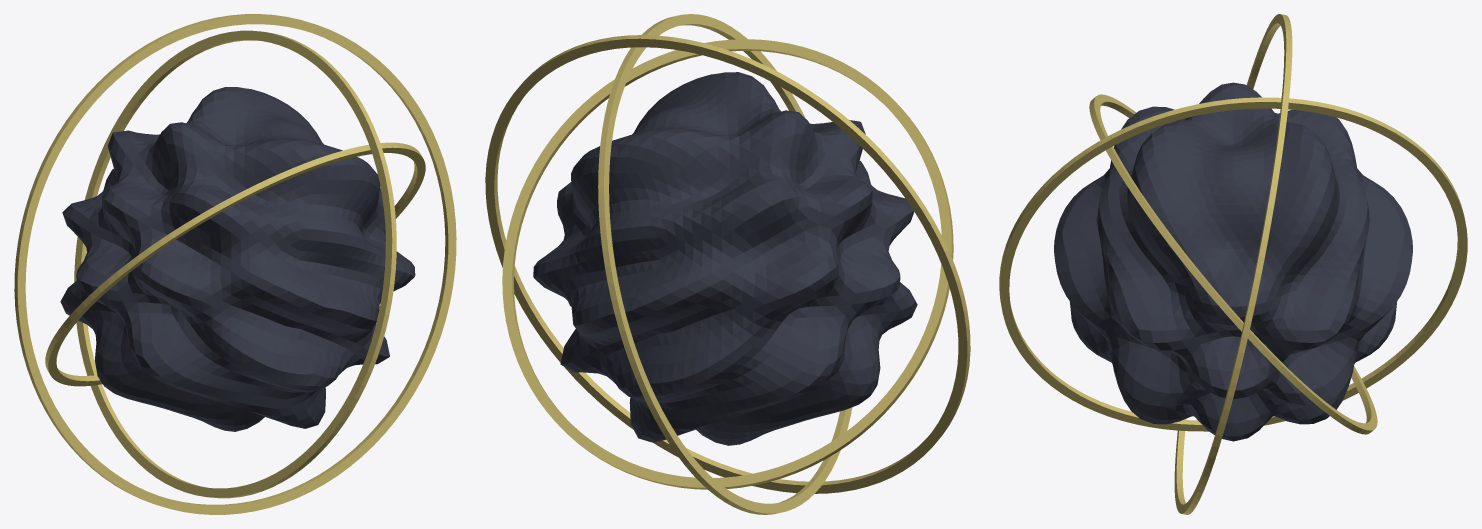
The model's file is gpu-artifact.glb.
The picture shows the model from 3 angles, left to right: view 1: azimuth 30°, elevation 25°; view 2: azimuth 150°, elevation 25°; view 3: azimuth 270°, elevation 25°; orthographic projection. The views are drawn at different scales.
Visible parts, largest first — view 1: zela-glasses-guide_obsidian_core, zela-glasses-guide_orbital_ring_2, zela-glasses-guide_orbital_ring_1, zela-glasses-guide_orbital_ring_0; view 2: zela-glasses-guide_obsidian_core, zela-glasses-guide_orbital_ring_2, zela-glasses-guide_orbital_ring_0, zela-glasses-guide_orbital_ring_1; view 3: zela-glasses-guide_obsidian_core, zela-glasses-guide_orbital_ring_1, zela-glasses-guide_orbital_ring_2, zela-glasses-guide_orbital_ring_0.
Boxes of the visible parts, left/top/right/bottom form: zela-glasses-guide_obsidian_core: left=60, top=87, right=415, bottom=431; zela-glasses-guide_orbital_ring_2: left=14, top=14, right=456, bottom=514; zela-glasses-guide_orbital_ring_1: left=74, top=30, right=396, bottom=498; zela-glasses-guide_orbital_ring_0: left=45, top=142, right=425, bottom=386; zela-glasses-guide_obsidian_core: left=533, top=72, right=917, bottom=445; zela-glasses-guide_orbital_ring_2: left=485, top=35, right=970, bottom=493; zela-glasses-guide_orbital_ring_0: left=502, top=39, right=953, bottom=489; zela-glasses-guide_orbital_ring_1: left=598, top=14, right=852, bottom=514; zela-glasses-guide_obsidian_core: left=1054, top=82, right=1412, bottom=441; zela-glasses-guide_orbital_ring_1: left=999, top=97, right=1467, bottom=431; zela-glasses-guide_orbital_ring_2: left=1174, top=14, right=1292, bottom=514; zela-glasses-guide_orbital_ring_0: left=1089, top=94, right=1377, bottom=434.
Size of the model in its own units: 3.24 by 3.17 by 2.98.
